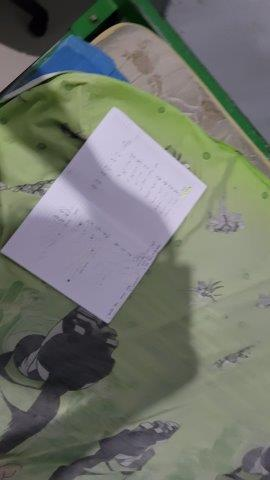kertas: (1, 107, 207, 325)
